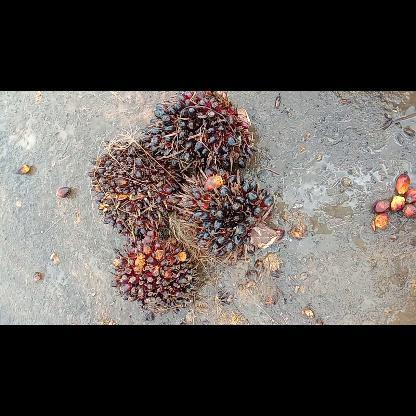TBS abnormal: (171, 164, 283, 260), (147, 91, 261, 177)
TBS masak: (85, 128, 198, 238), (106, 228, 206, 312)
